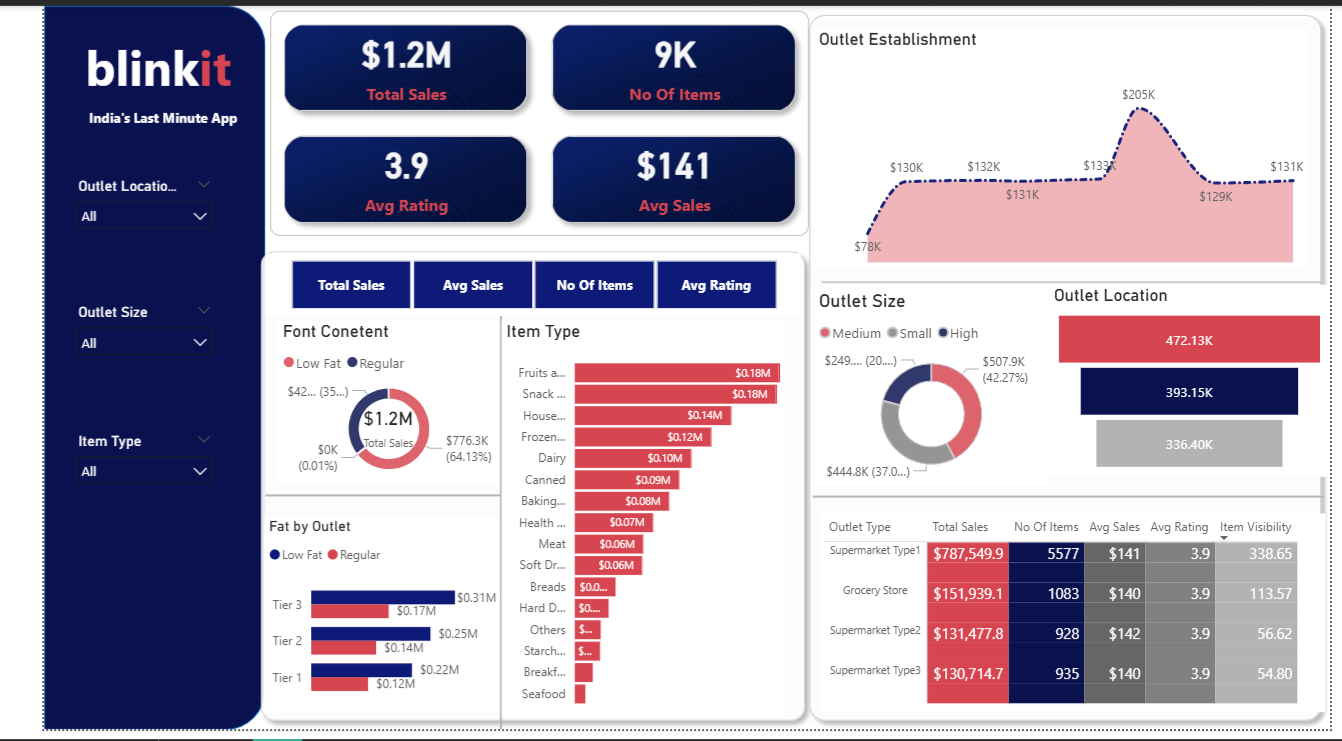

This screenshot's page, from the dashboard's own definition file:
{"tool":"powerbi","page":{"name":"Page 1","canvas":[1280,720],"ordinal":0},"visuals":[{"type":"shape","box":[0,0,220.2,720.3],"z":0},{"type":"textbox","box":[35.7,22,196.2,75.5],"z":1000},{"type":"textbox","box":[39.8,97.4,163.3,30.2],"z":2000},{"type":"cardVisual","fields":{"Data":["BlinkIT Grocery Data.Total Sales","BlinkIT Grocery Data.No Of Items","BlinkIT Grocery Data.Avg Rating","BlinkIT Grocery Data.Avg Sales"]},"box":[220.2,0,546.1,235.1],"z":3000},{"type":"shape","box":[206.5,235.1,559.8,485.1],"z":4000},{"type":"slicer","fields":{"Values":["Metrics.Metrics"]},"box":[220.2,246.3,532.4,62.2],"z":5000},{"type":"donutChart","title":" Font Conetent","fields":{"Y":["BlinkIT Grocery Data.Total Sales","BlinkIT Grocery Data.Avg Sales","BlinkIT Grocery Data.No Of Items","BlinkIT Grocery Data.Avg Rating"],"Category":["BlinkIT Grocery Data.Item Fat Content"]},"box":[232.6,313.5,221.4,164.2],"z":6000},{"type":"card","fields":{"Values":["BlinkIT Grocery Data.Total Sales"]},"box":[303.5,385.6,78.4,63.4],"z":7000},{"type":"clusteredBarChart","title":"Fat by Outlet","fields":{"Y":["BlinkIT Grocery Data.Total Sales"],"Category":["BlinkIT Grocery Data.Outlet Location Type"],"Series":["BlinkIT Grocery Data.Item Fat Content"]},"box":[218.9,508.8,236.4,194.1],"z":8000},{"type":"shape","box":[220.2,465.2,233.9,43.5],"z":9000},{"type":"shape","box":[436.6,308.5,36.1,411.8],"z":10000},{"type":"barChart","title":"Item Type","fields":{"Y":["BlinkIT Grocery Data.Total Sales","BlinkIT Grocery Data.Avg Sales","BlinkIT Grocery Data.No Of Items","BlinkIT Grocery Data.Avg Rating"],"Category":["BlinkIT Grocery Data.Item Type"]},"box":[455.3,313.5,282.4,394.3],"z":11000},{"type":"shape","box":[752.6,0,527.4,720.3],"z":12000},{"type":"lineChart","title":" Outlet Establishment","fields":{"Category":["BlinkIT Grocery Data.Outlet Establishment Year"],"Y":["BlinkIT Grocery Data.Total Sales"]},"box":[766.3,22.4,492,238],"z":13000},{"type":"shape","box":[773.7,256.3,500.1,37.3],"z":14000},{"type":"donutChart","title":"Outlet Size","fields":{"Y":["BlinkIT Grocery Data.Total Sales"],"Category":["BlinkIT Grocery Data.Outlet Size"]},"box":[766.3,282.4,233.9,195.3],"z":15000},{"type":"funnel","title":" Outlet Location","fields":{"Y":["Sum(BlinkIT Grocery Data.Sales)"],"Category":["BlinkIT Grocery Data.Outlet Location Type"]},"box":[1000.1,277.4,279.9,191.6],"z":16000},{"type":"pivotTable","fields":{"Rows":["BlinkIT Grocery Data.Outlet Type"],"Values":["BlinkIT Grocery Data.Total Sales","BlinkIT Grocery Data.No Of Items","BlinkIT Grocery Data.Avg Sales","BlinkIT Grocery Data.Avg Rating","Sum(BlinkIT Grocery Data.Item Visibility)"]},"box":[771.3,505,503.8,197.8],"z":17000},{"type":"shape","box":[765,456.5,508.8,63.4],"z":18000},{"type":"slicer","fields":{"Values":["BlinkIT Grocery Data.Outlet Location Type"]},"box":[21.1,165.4,156.7,69.7],"z":19000},{"type":"slicer","fields":{"Values":["BlinkIT Grocery Data.Outlet Size"]},"box":[21.1,291.1,156.7,69.7],"z":20000},{"type":"slicer","fields":{"Values":["BlinkIT Grocery Data.Item Type"]},"box":[21.1,419.2,156.7,69.7],"z":21000}]}

Visuals, with their boxes in screenshot pixels (x1, y1, x2, y2), scaled from the page's 1280x720 canvas onto the 1342x741 screenshot:
shape: (0, 0, 231, 740)
textbox: (37, 23, 243, 100)
textbox: (42, 100, 213, 131)
cardVisual - BlinkIT Grocery Data.Total Sales x BlinkIT Grocery Data.No Of Items: (231, 0, 803, 242)
shape: (217, 242, 803, 740)
slicer - Metrics.Metrics: (231, 253, 789, 317)
" Font Conetent" donutChart: (244, 323, 476, 492)
card - BlinkIT Grocery Data.Total Sales: (318, 397, 400, 462)
"Fat by Outlet" clusteredBarChart: (230, 524, 477, 723)
shape: (231, 479, 476, 524)
shape: (458, 317, 496, 740)
"Item Type" barChart: (477, 323, 773, 728)
shape: (789, 0, 1341, 740)
" Outlet Establishment" lineChart: (803, 23, 1319, 268)
shape: (811, 264, 1335, 302)
"Outlet Size" donutChart: (803, 291, 1049, 492)
" Outlet Location" funnel: (1049, 285, 1341, 483)
pivotTable - BlinkIT Grocery Data.Outlet Type x BlinkIT Grocery Data.Total Sales: (809, 520, 1337, 723)
shape: (802, 470, 1335, 535)
slicer - BlinkIT Grocery Data.Outlet Location Type: (22, 170, 186, 242)
slicer - BlinkIT Grocery Data.Outlet Size: (22, 300, 186, 371)
slicer - BlinkIT Grocery Data.Item Type: (22, 431, 186, 503)
